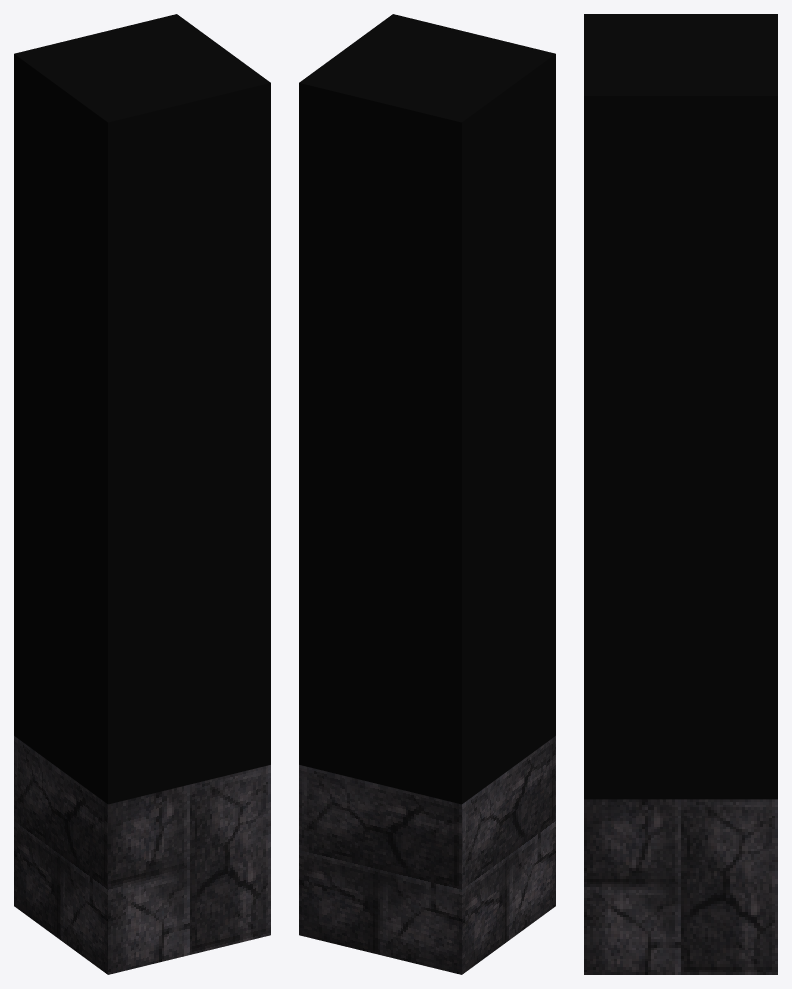
Rendered from wall1.gltf.
3 renders of one model, left to right at view 1: azimuth 30°, elevation 25°; view 2: azimuth 150°, elevation 25°; view 3: azimuth 270°, elevation 25°, orthographic. The views are drawn at different scales.
Visible parts, largest first — view 1: Cube.003; view 2: Cube.003; view 3: Cube.003.
Boxes of the visible parts, box(x1,y1,x2,y2) form: Cube.003: box(14, 14, 270, 974); Cube.003: box(299, 14, 555, 974); Cube.003: box(584, 14, 777, 974).
Bounding box in the file's own units: 2 × 10 × 2.
2 materials, 1 textured.
